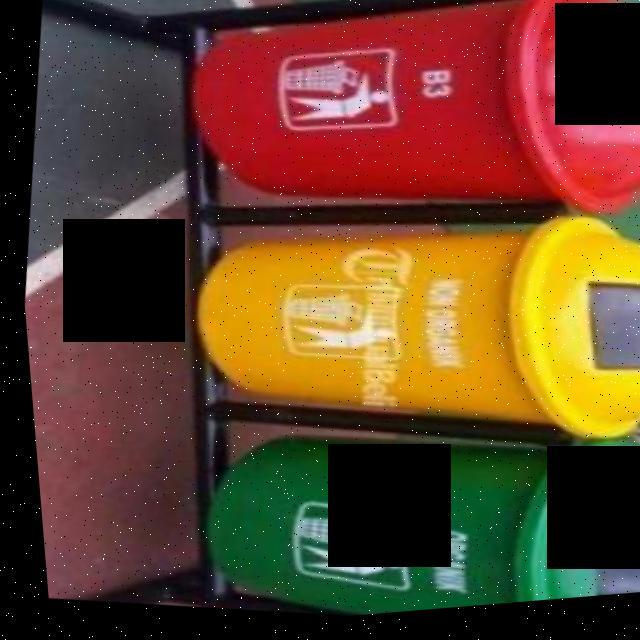bin: (169, 161, 640, 482), (153, 0, 640, 263), (162, 388, 640, 631)
